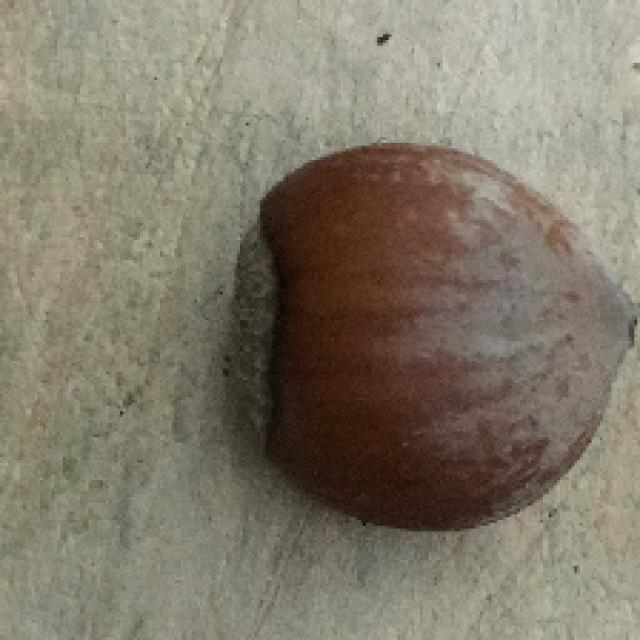qualityHazelnut: (219, 133, 639, 529)
